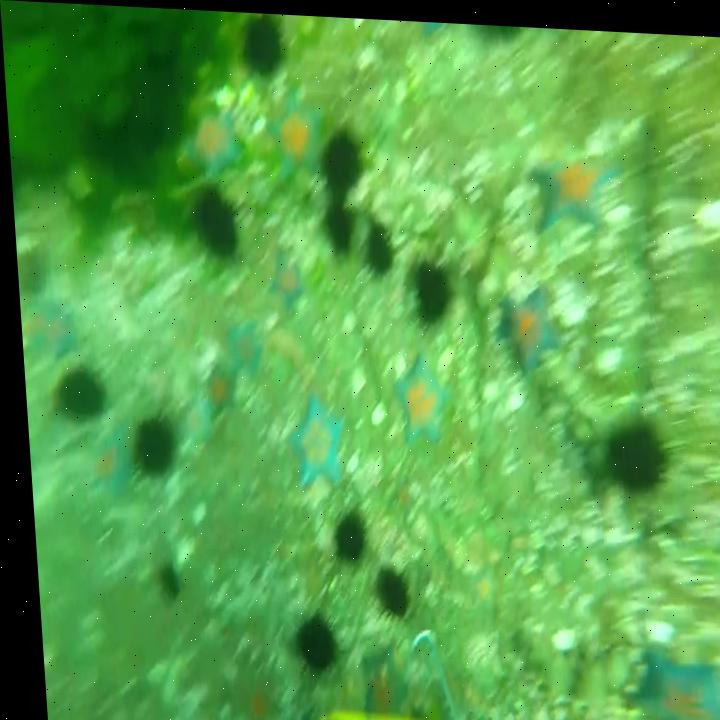echinus: (602, 406, 656, 484), (184, 184, 238, 254), (48, 362, 99, 425), (282, 604, 330, 668), (126, 408, 173, 473), (237, 10, 284, 74), (319, 122, 366, 186), (406, 245, 445, 322), (326, 498, 364, 565), (365, 553, 400, 620), (359, 211, 390, 272), (318, 201, 352, 249)
starfish: (616, 630, 720, 720), (525, 136, 619, 229), (280, 393, 345, 489), (260, 80, 325, 173), (390, 346, 449, 437), (493, 279, 553, 365), (17, 284, 77, 358), (183, 103, 237, 176), (85, 424, 125, 502), (218, 320, 264, 377), (264, 249, 306, 311), (194, 358, 235, 417)
